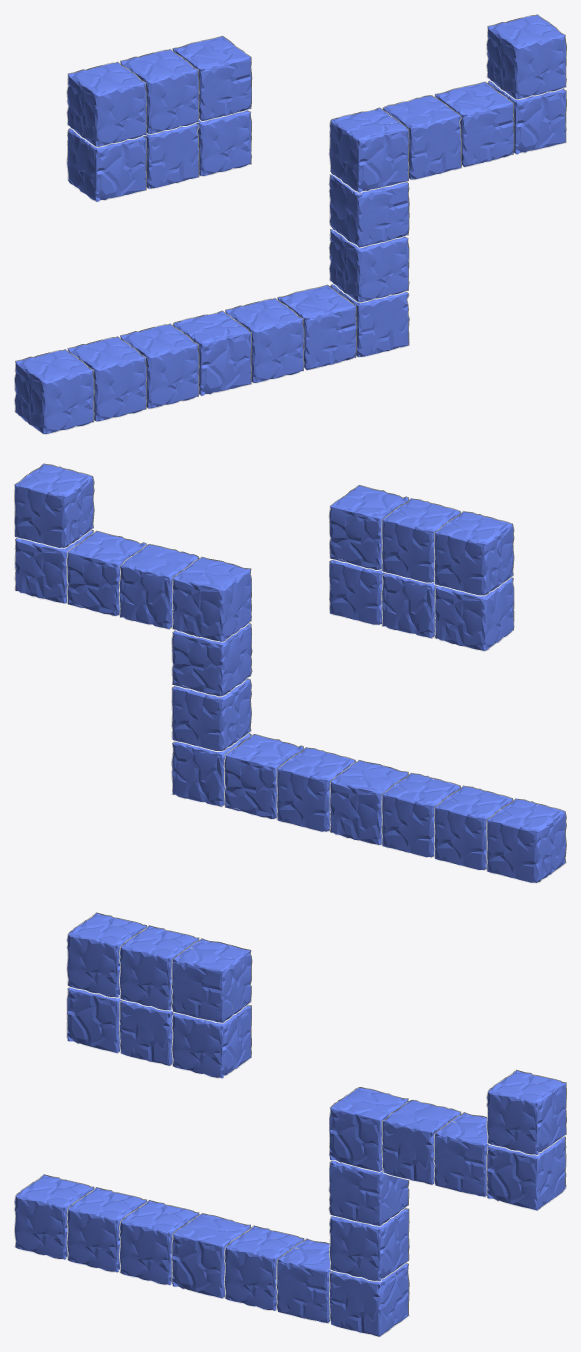
File: land_test.gltf
The picture shows the model from 3 angles, top to bottom: view 1: azimuth 30°, elevation 25°; view 2: azimuth 150°, elevation 25°; view 3: azimuth 330°, elevation 25°; orthographic projection.
Parts seen in each view (by area): view 1: Cube.014, Cube.004, Cube.020, Cube.005, Cube.007, Cube.006, Cube.018, Cube.008, Cube.019, Cube, Cube.009, Cube.013 (+8 smaller); view 2: Cube.014, Cube.004, Cube.020, Cube.005, Cube.007, Cube.006, Cube.018, Cube.003, Cube.009, Cube.019, Cube, Cube.008 (+8 smaller); view 3: Cube.017, Cube.004, Cube.007, Cube.015, Cube.011, Cube.002, Cube.013, Cube.020, Cube.012, Cube.014, Cube.008, Cube.005 (+8 smaller).
Boxes of the visible parts, x1=… form: Cube.014: x1=14, y1=349, x2=94, y2=434; Cube.004: x1=486, y1=14, x2=566, y2=99; Cube.020: x1=66, y1=61, x2=147, y2=147; Cube.005: x1=328, y1=107, x2=409, y2=193; Cube.007: x1=328, y1=229, x2=409, y2=303; Cube.006: x1=328, y1=174, x2=409, y2=248; Cube.018: x1=66, y1=128, x2=147, y2=202; Cube.008: x1=120, y1=323, x2=199, y2=409; Cube.019: x1=120, y1=49, x2=199, y2=134; Cube: x1=434, y1=81, x2=514, y2=167; Cube.009: x1=225, y1=298, x2=304, y2=383; Cube.013: x1=67, y1=336, x2=147, y2=421; Cube.014: x1=486, y1=798, x2=566, y2=883; Cube.004: x1=14, y1=463, x2=94, y2=548; Cube.020: x1=433, y1=510, x2=514, y2=596; Cube.005: x1=172, y1=556, x2=251, y2=642; Cube.007: x1=171, y1=678, x2=251, y2=751; Cube.006: x1=171, y1=623, x2=252, y2=697; Cube.018: x1=434, y1=577, x2=514, y2=651; Cube.003: x1=119, y1=544, x2=199, y2=629; Cube.009: x1=276, y1=747, x2=355, y2=832; Cube.019: x1=381, y1=498, x2=460, y2=583; Cube: x1=66, y1=530, x2=146, y2=616; Cube.008: x1=381, y1=772, x2=460, y2=857; Cube.017: x1=171, y1=938, x2=252, y2=1023; Cube.004: x1=486, y1=1069, x2=566, y2=1155; Cube.007: x1=329, y1=1208, x2=409, y2=1282; Cube.015: x1=171, y1=1005, x2=251, y2=1079; Cube.011: x1=329, y1=1263, x2=409, y2=1337; Cube.002: x1=486, y1=1136, x2=566, y2=1210; Cube.013: x1=66, y1=1187, x2=146, y2=1273; Cube.020: x1=66, y1=912, x2=146, y2=998; Cube.012: x1=171, y1=1213, x2=250, y2=1298; Cube.014: x1=14, y1=1174, x2=94, y2=1260; Cube.008: x1=119, y1=1200, x2=199, y2=1285; Cube.005: x1=329, y1=1087, x2=408, y2=1172.
Bounding box in the file's own units: 4.01 × 2.41 × 0.4069.
